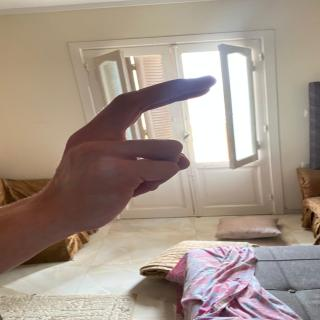ZAY: (38, 68, 262, 229)
